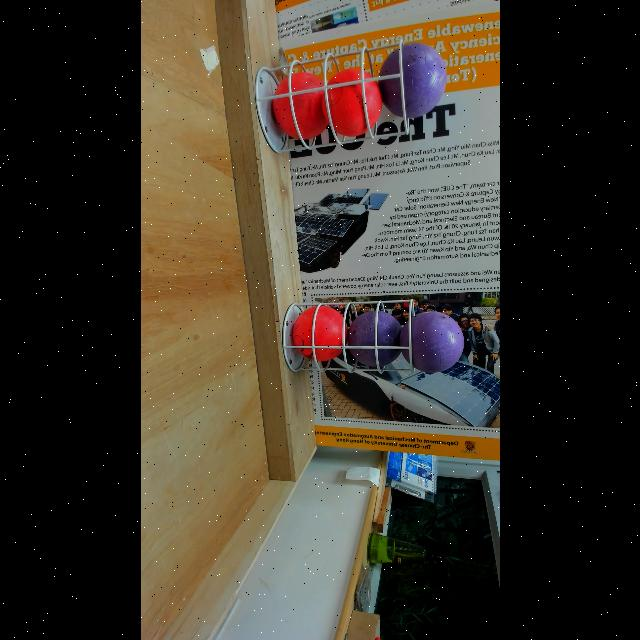P: (377, 40, 448, 120), (397, 310, 465, 374), (346, 308, 404, 368)
R: (321, 65, 384, 138), (270, 71, 330, 141), (290, 304, 348, 362)
S: (252, 39, 411, 155), (280, 298, 418, 376)
